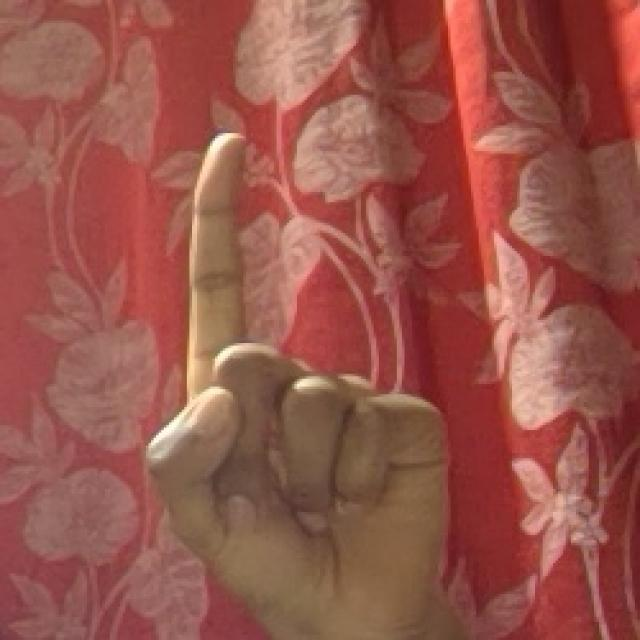Numeric-1: (148, 131, 452, 625)
